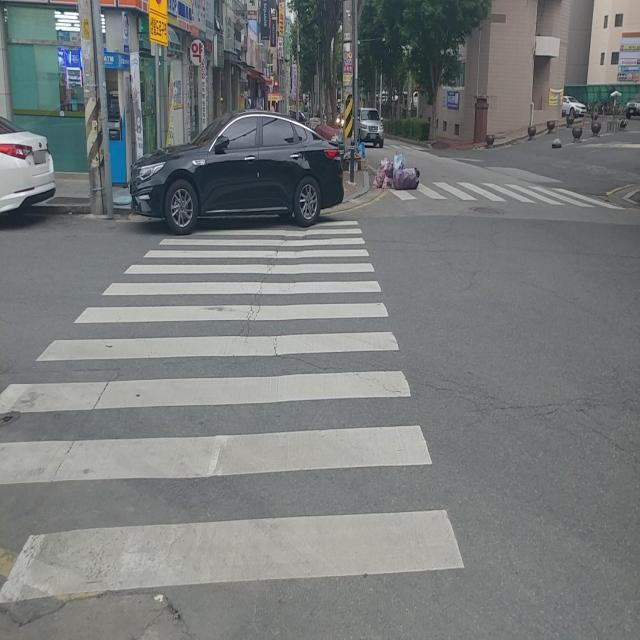횡단보도: (0, 219, 465, 604), (381, 174, 627, 206)
